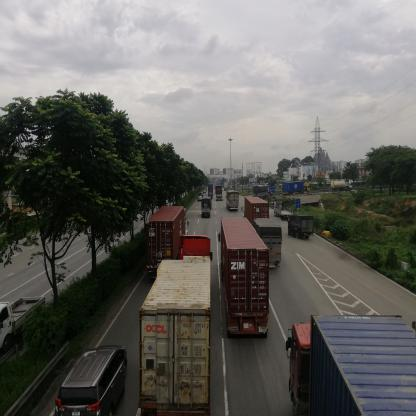car: (62, 349, 127, 416)
container: (289, 316, 416, 416), (157, 240, 212, 416), (222, 218, 268, 340), (150, 207, 184, 261), (283, 184, 311, 195), (332, 180, 354, 193)
truck: (257, 218, 282, 270), (289, 217, 315, 239), (275, 203, 294, 217), (254, 187, 272, 200), (228, 192, 239, 211), (203, 199, 211, 220)
